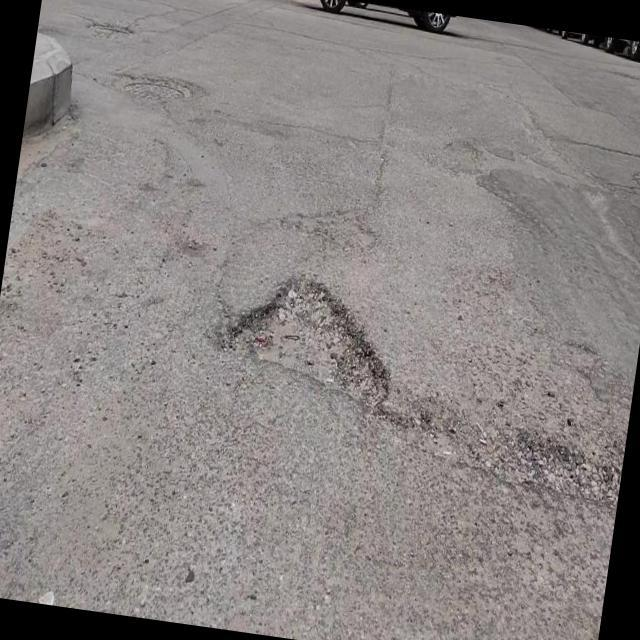Pothole: (221, 273, 392, 415)
